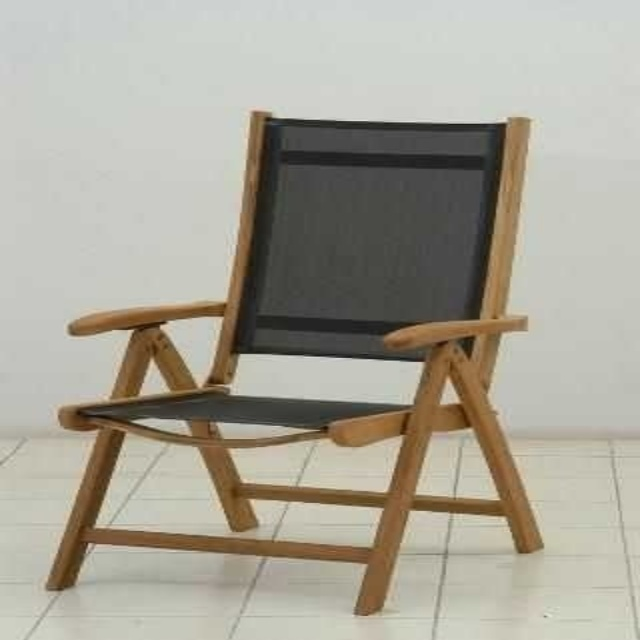obstacle: (46, 112, 540, 613)
